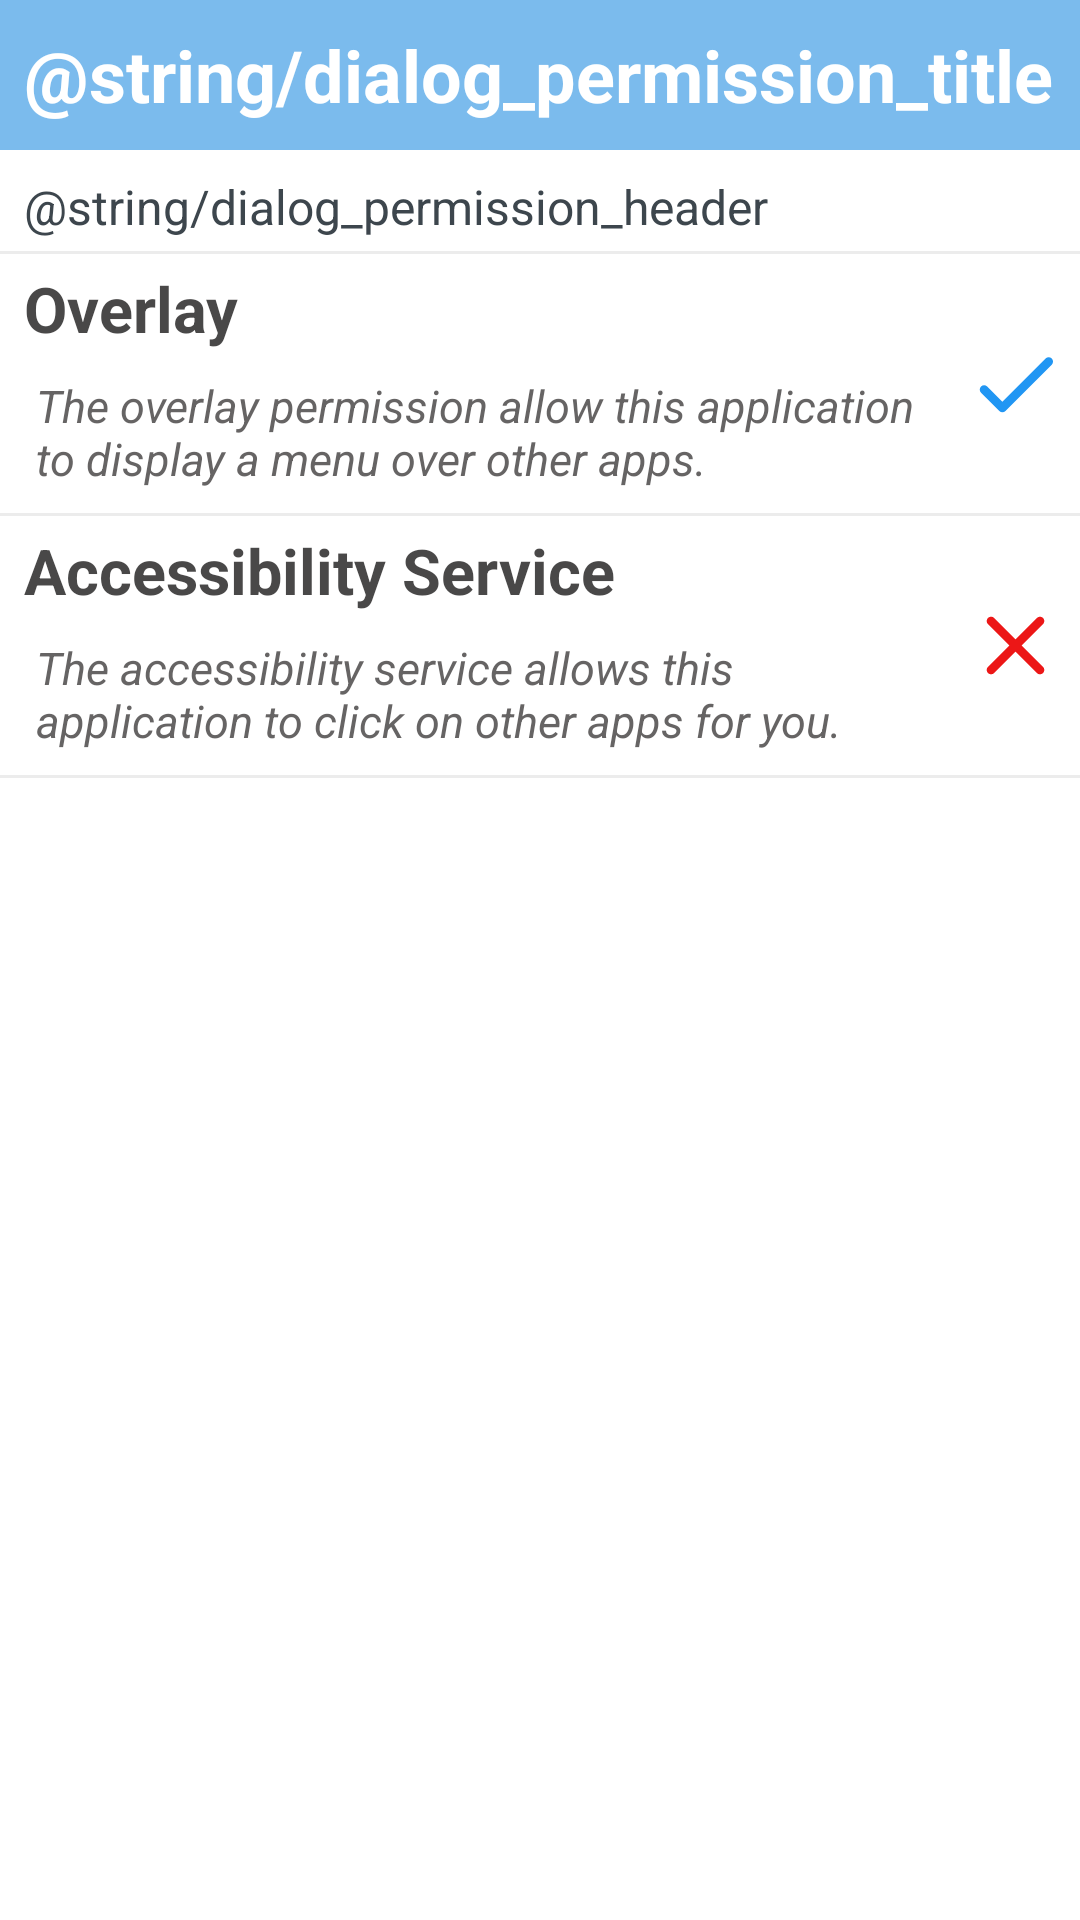

Where icons sit on this 1080 × 1920 app screen, as (x1, y1, x2, y2):
cancel: (986, 616, 1045, 675)
confirm: (979, 357, 1053, 413)
